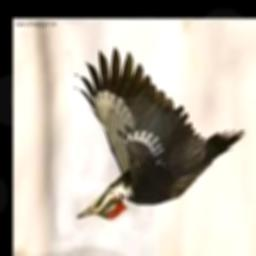Woodpecker: (73, 47, 245, 220)
